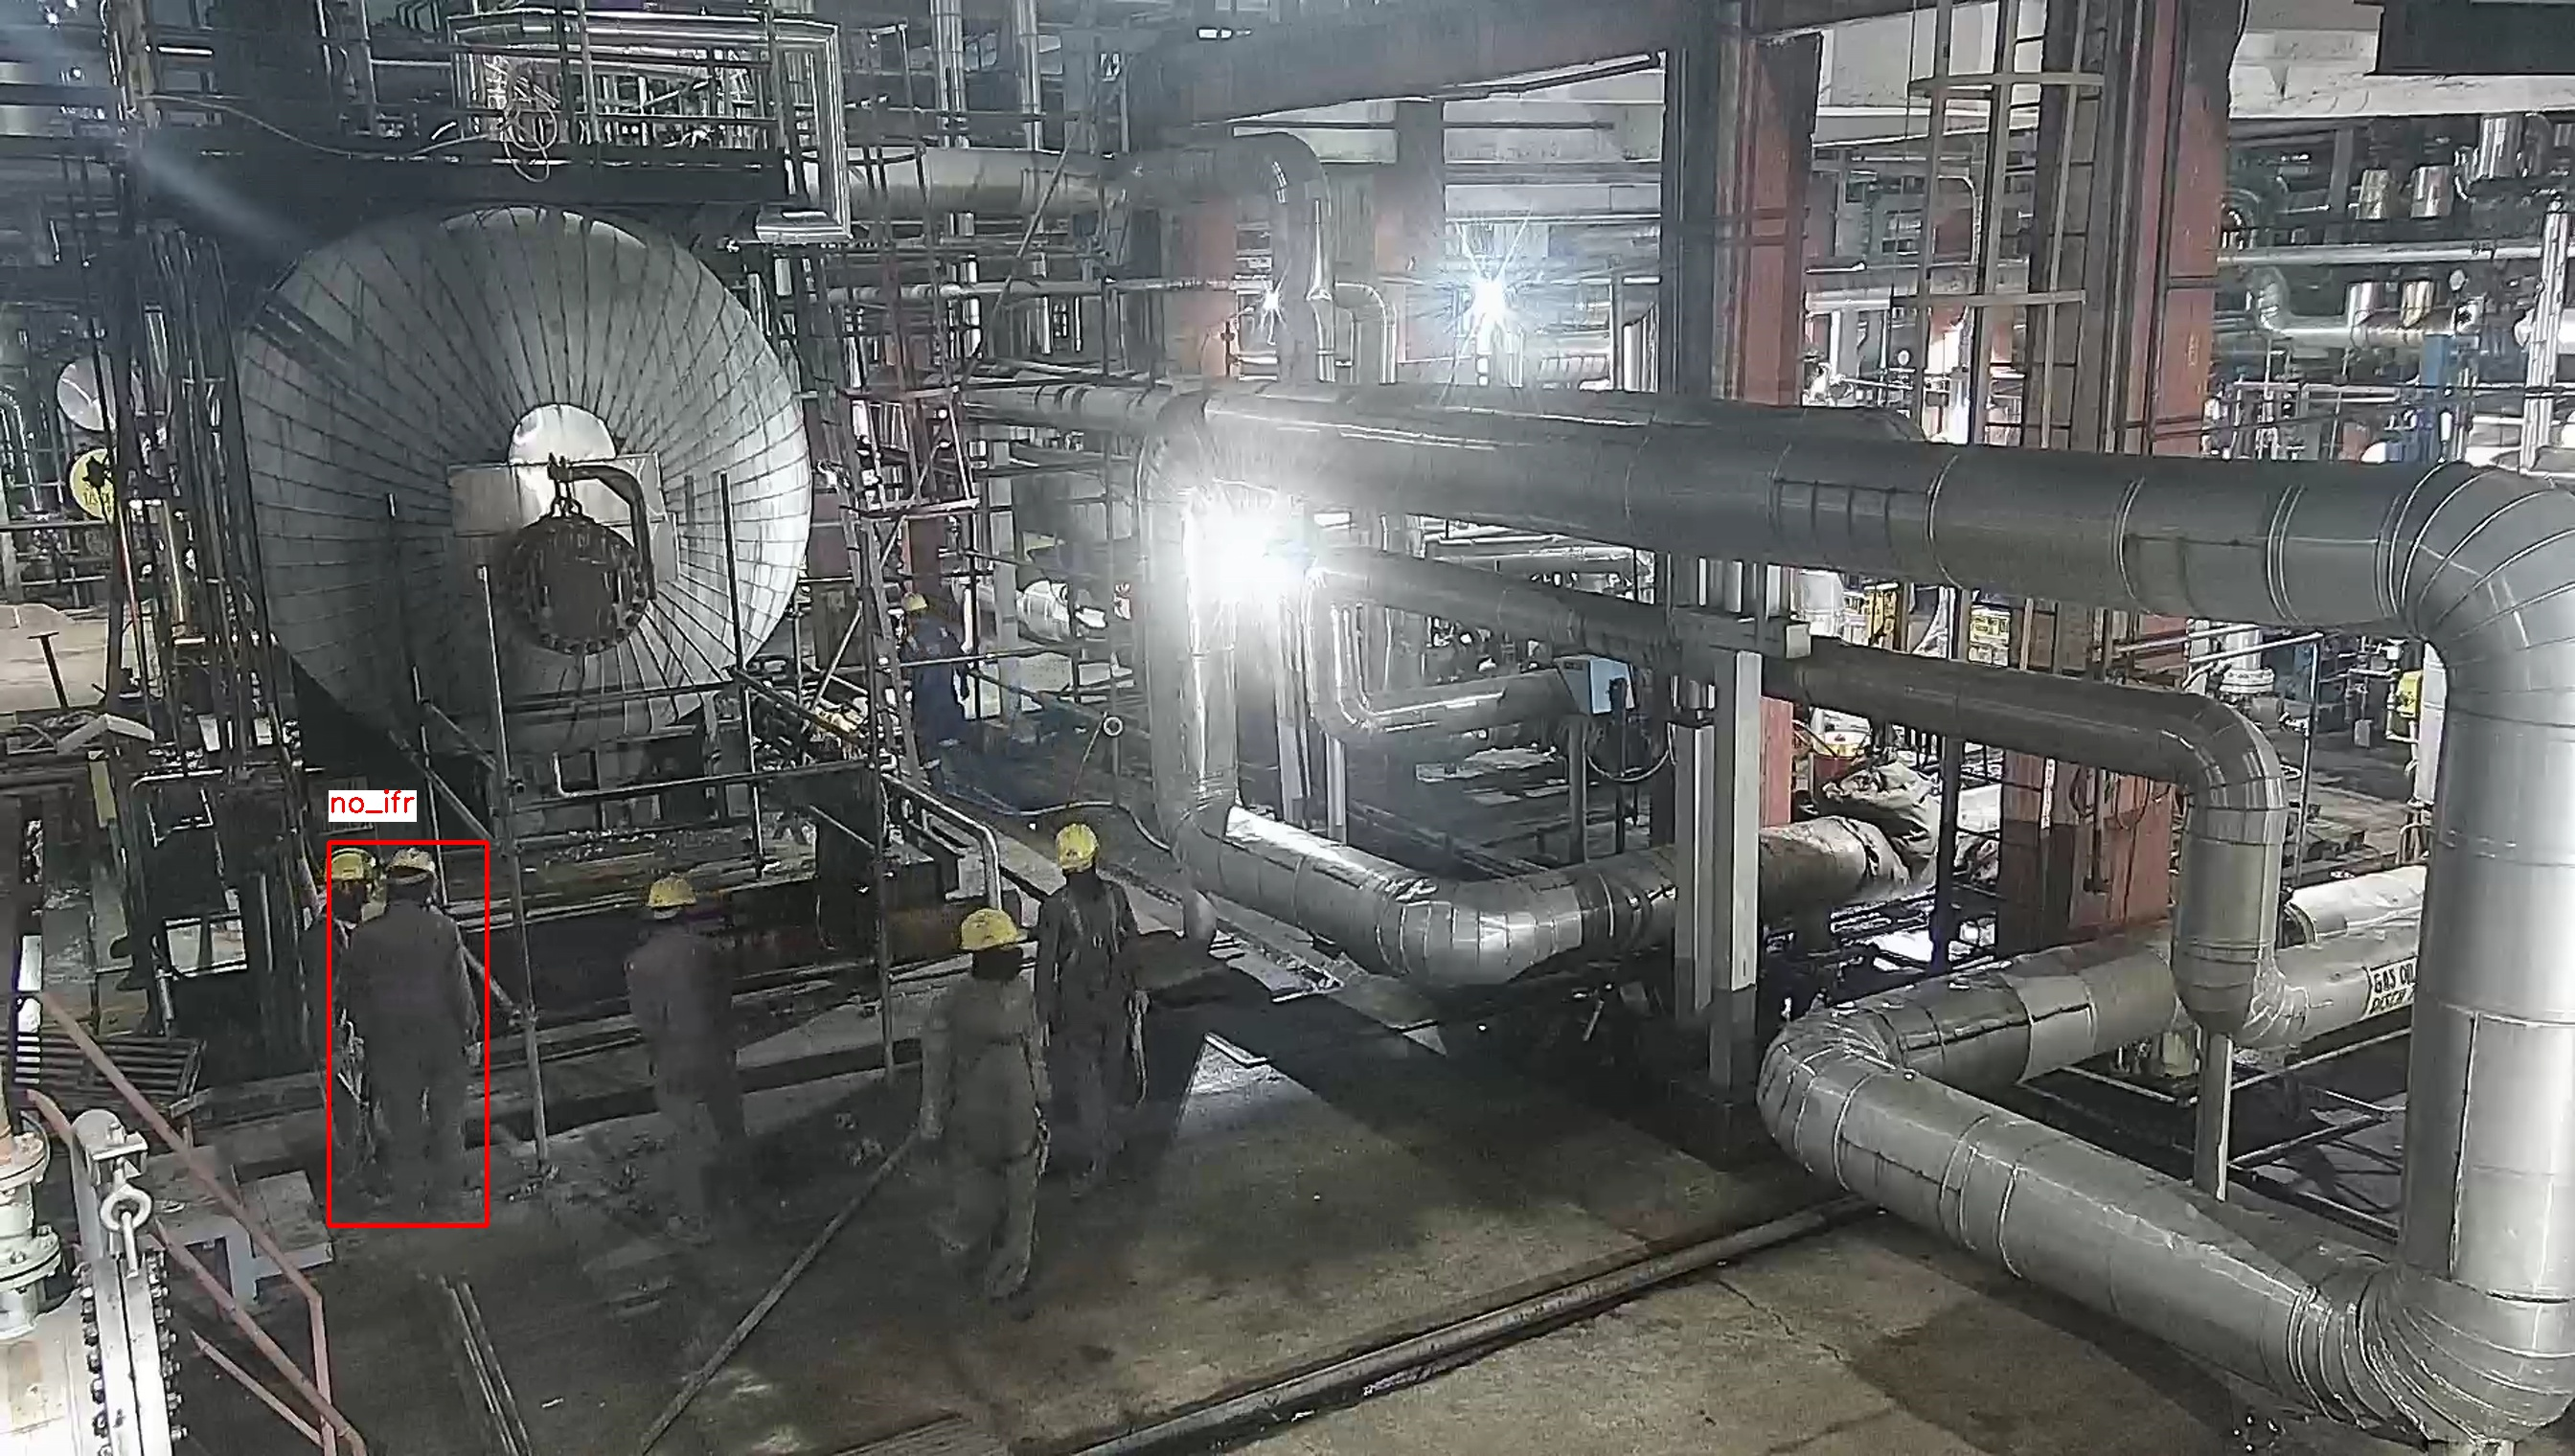Helmets: (951, 906, 1029, 954), (1047, 816, 1105, 870), (642, 869, 700, 915), (331, 846, 378, 881)
